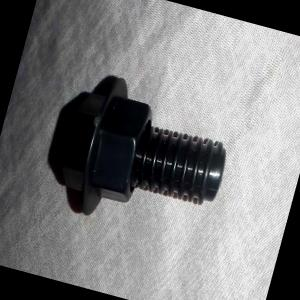parafuso: (34, 63, 240, 245)
